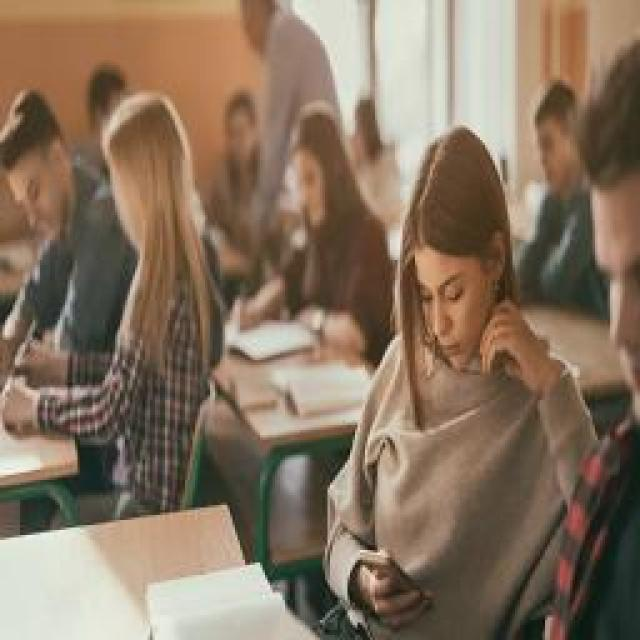phone: (328, 125, 600, 640)
study: (12, 98, 222, 448), (228, 113, 390, 355), (0, 90, 128, 385)
